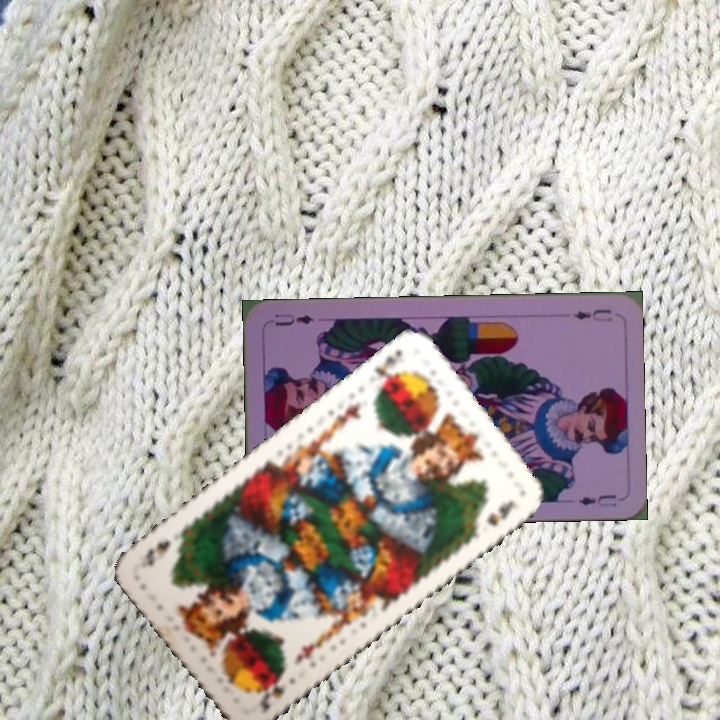EU: (569, 305, 615, 324)
SK: (254, 669, 299, 714), (370, 345, 408, 393)
